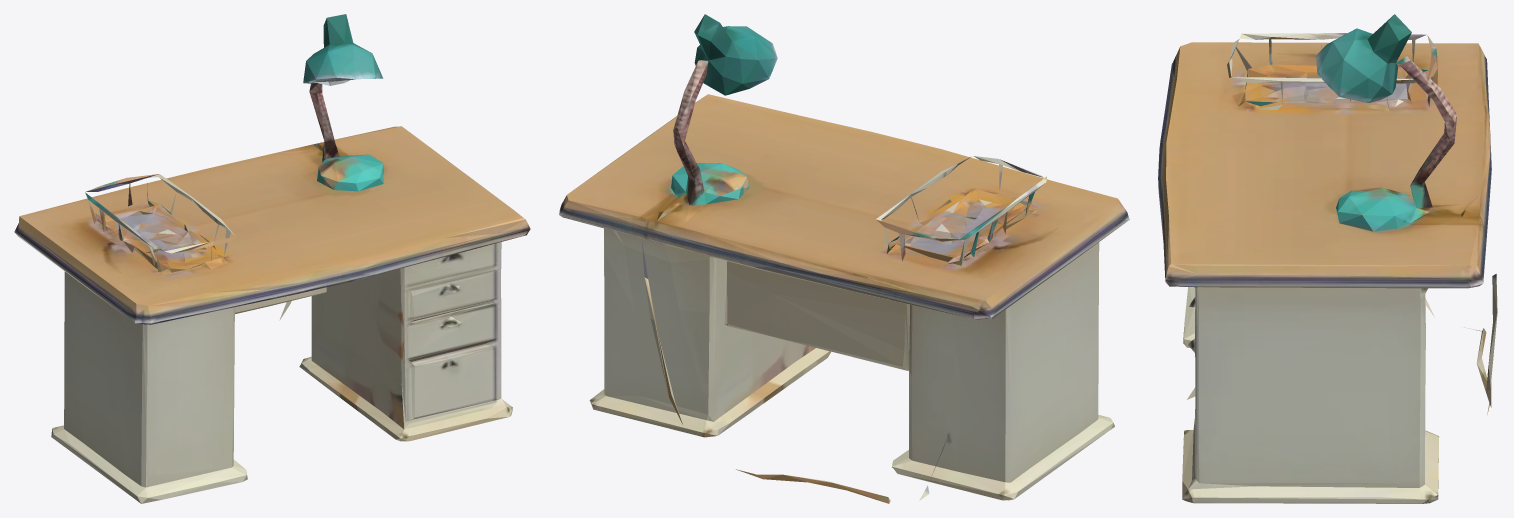
Rendered from desk.glb.
3 views of the same model, side by side, from view 1: azimuth 30°, elevation 25°; view 2: azimuth 150°, elevation 25°; view 3: azimuth 270°, elevation 25° (orthographic). The views are drawn at different scales.
Parts seen in each view (by area): view 1: figure; view 2: figure; view 3: figure.
Part boxes in pixels (x1,y1,x2,y2): figure: (14,14,530,503); figure: (559,14,1129,503); figure: (1158,14,1497,503).
Bounding box in the file's own units: 1.13 × 1 × 0.7097.
1 material, 1 textured.
